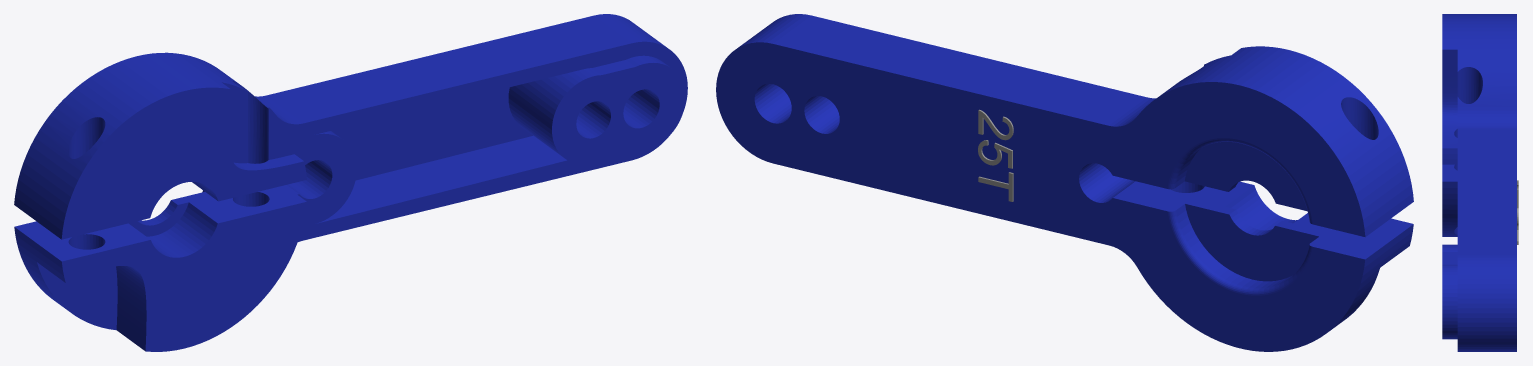
Rendered from arm servo.obj.
3 views of the same model, side by side, from view 1: azimuth 30°, elevation 25°; view 2: azimuth 150°, elevation 25°; view 3: azimuth 270°, elevation 25° (orthographic). The views are drawn at different scales.
Parts seen in each view (by area): view 1: smart dustbin part 3 (aliminum clam) v3.obj_1; view 2: smart dustbin part 3 (aliminum clam) v3.obj_1; view 3: smart dustbin part 3 (aliminum clam) v3.obj_1.
Boxes of the visible parts, x1,y1,x2,y2 form: smart dustbin part 3 (aliminum clam) v3.obj_1: [14, 14, 687, 351]; smart dustbin part 3 (aliminum clam) v3.obj_1: [716, 14, 1413, 351]; smart dustbin part 3 (aliminum clam) v3.obj_1: [1442, 14, 1516, 351].
Size of what is drawn, in the model's own units: 0.0414 by 0.016 by 0.00548.
